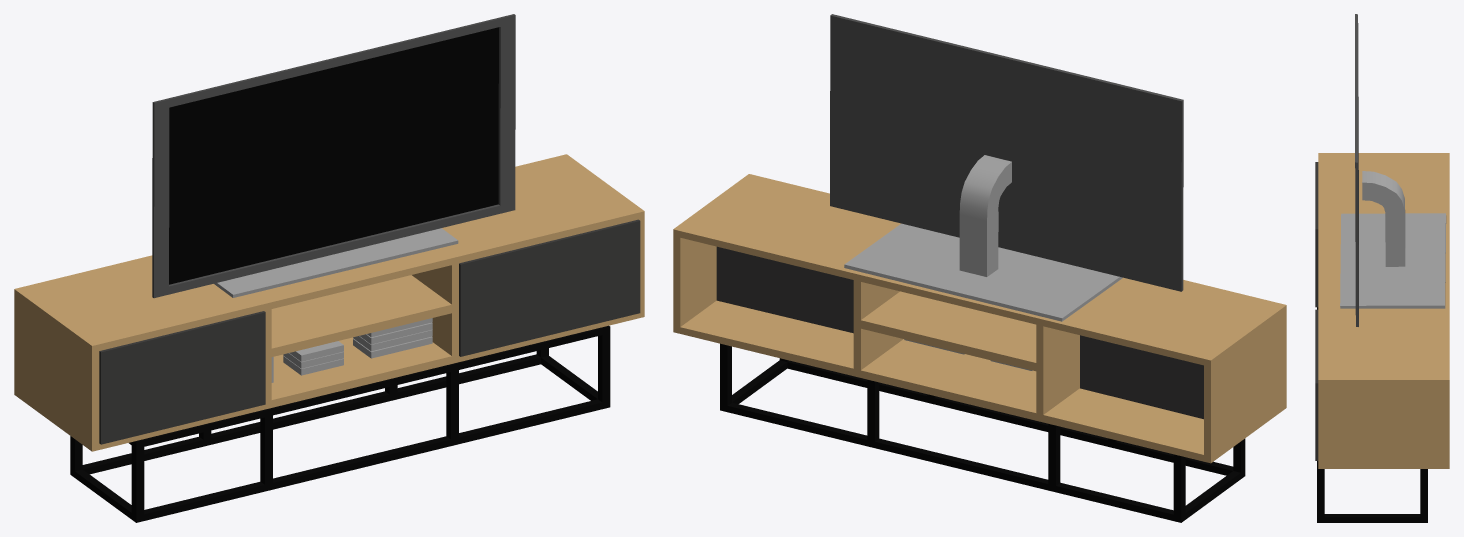
Rendered from PROJECT_CAUCHEMARE_TELE_SAM.fbx.
3 views of the same model, side by side, from view 1: azimuth 30°, elevation 25°; view 2: azimuth 150°, elevation 25°; view 3: azimuth 270°, elevation 25° (orthographic). The views are drawn at different scales.
Visible parts, largest first — view 1: CAUCHEMARE_PRJCT_TELE_SAM_0002:Télé, CAUCHEMARE_PRJCT_TELE_SAM_0002:Meuble, CAUCHEMARE_PRJCT_TELE_SAM_0002:Support_etagere, CAUCHEMARE_PRJCT_TELE_SAM_0002:Carre_droite, CAUCHEMARE_PRJCT_TELE_SAM_0002:Carre_gauche, CAUCHEMARE_PRJCT_TELE_SAM_0002:Support_tele, CAUCHEMARE_PRJCT_TELE_SAM_0002:Livres; view 2: CAUCHEMARE_PRJCT_TELE_SAM_0002:Meuble, CAUCHEMARE_PRJCT_TELE_SAM_0002:Télé, CAUCHEMARE_PRJCT_TELE_SAM_0002:Support_tele, CAUCHEMARE_PRJCT_TELE_SAM_0002:Support_etagere, CAUCHEMARE_PRJCT_TELE_SAM_0002:Carre_droite, CAUCHEMARE_PRJCT_TELE_SAM_0002:Carre_gauche; view 3: CAUCHEMARE_PRJCT_TELE_SAM_0002:Meuble, CAUCHEMARE_PRJCT_TELE_SAM_0002:Support_tele, CAUCHEMARE_PRJCT_TELE_SAM_0002:Support_etagere, CAUCHEMARE_PRJCT_TELE_SAM_0002:Télé, CAUCHEMARE_PRJCT_TELE_SAM_0002:Carre_droite, CAUCHEMARE_PRJCT_TELE_SAM_0002:Carre_gauche.
Boxes of the visible parts, <box> form: CAUCHEMARE_PRJCT_TELE_SAM_0002:Télé: <box>152,14,515,298</box>; CAUCHEMARE_PRJCT_TELE_SAM_0002:Meuble: <box>14,154,644,451</box>; CAUCHEMARE_PRJCT_TELE_SAM_0002:Support_etagere: <box>70,325,610,522</box>; CAUCHEMARE_PRJCT_TELE_SAM_0002:Carre_droite: <box>459,219,640,356</box>; CAUCHEMARE_PRJCT_TELE_SAM_0002:Carre_gauche: <box>99,311,265,444</box>; CAUCHEMARE_PRJCT_TELE_SAM_0002:Support_tele: <box>214,228,458,297</box>; CAUCHEMARE_PRJCT_TELE_SAM_0002:Livres: <box>271,318,432,382</box>; CAUCHEMARE_PRJCT_TELE_SAM_0002:Meuble: <box>673,174,1286,463</box>; CAUCHEMARE_PRJCT_TELE_SAM_0002:Télé: <box>830,14,1183,291</box>; CAUCHEMARE_PRJCT_TELE_SAM_0002:Support_tele: <box>844,155,1122,321</box>; CAUCHEMARE_PRJCT_TELE_SAM_0002:Support_etagere: <box>720,343,1245,522</box>; CAUCHEMARE_PRJCT_TELE_SAM_0002:Carre_droite: <box>716,246,853,333</box>; CAUCHEMARE_PRJCT_TELE_SAM_0002:Carre_gauche: <box>1080,335,1203,419</box>; CAUCHEMARE_PRJCT_TELE_SAM_0002:Meuble: <box>1318,153,1449,468</box>; CAUCHEMARE_PRJCT_TELE_SAM_0002:Support_tele: <box>1340,171,1446,308</box>; CAUCHEMARE_PRJCT_TELE_SAM_0002:Support_etagere: <box>1317,307,1427,522</box>; CAUCHEMARE_PRJCT_TELE_SAM_0002:Télé: <box>1355,14,1358,326</box>; CAUCHEMARE_PRJCT_TELE_SAM_0002:Carre_droite: <box>1315,309,1318,460</box>; CAUCHEMARE_PRJCT_TELE_SAM_0002:Carre_gauche: <box>1315,162,1318,307</box>.
Size of the model in its own units: 15.49 by 10.53 by 3.87.
